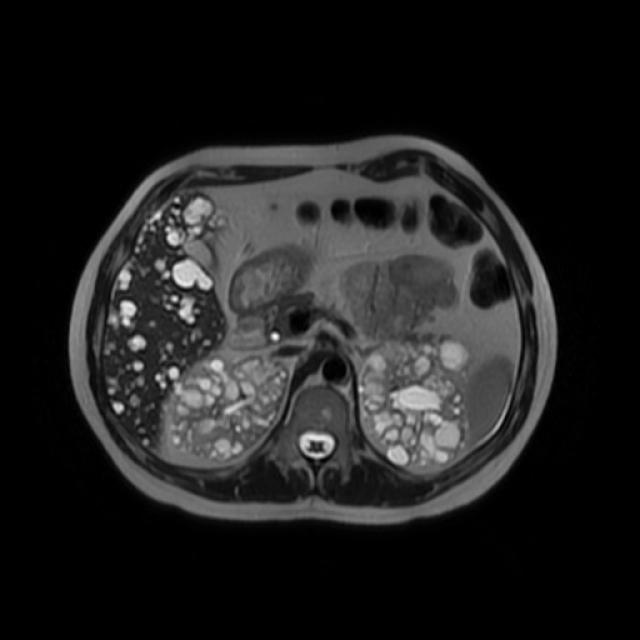sag: (166, 350, 289, 464)
sol: (357, 333, 473, 470)
